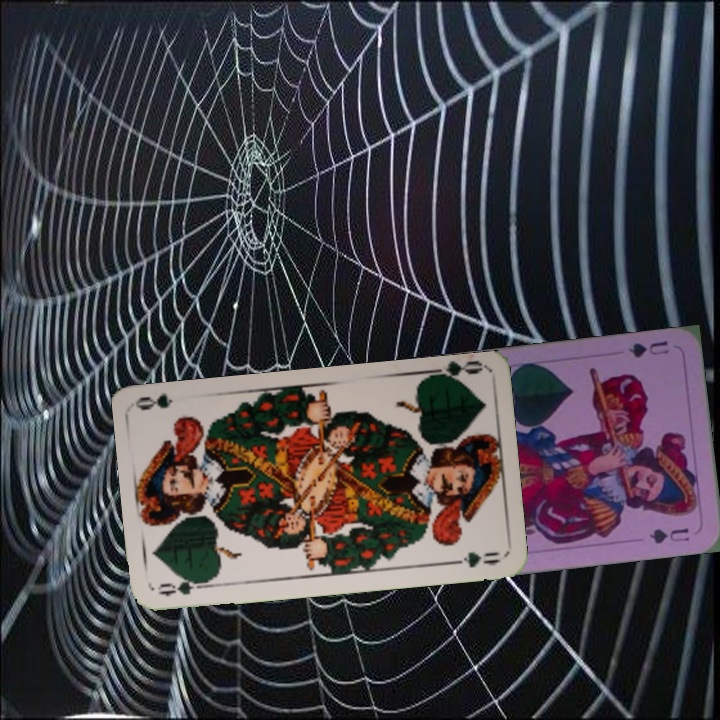GO: (424, 359, 484, 388), (154, 574, 213, 599)
GU: (624, 336, 672, 361)
